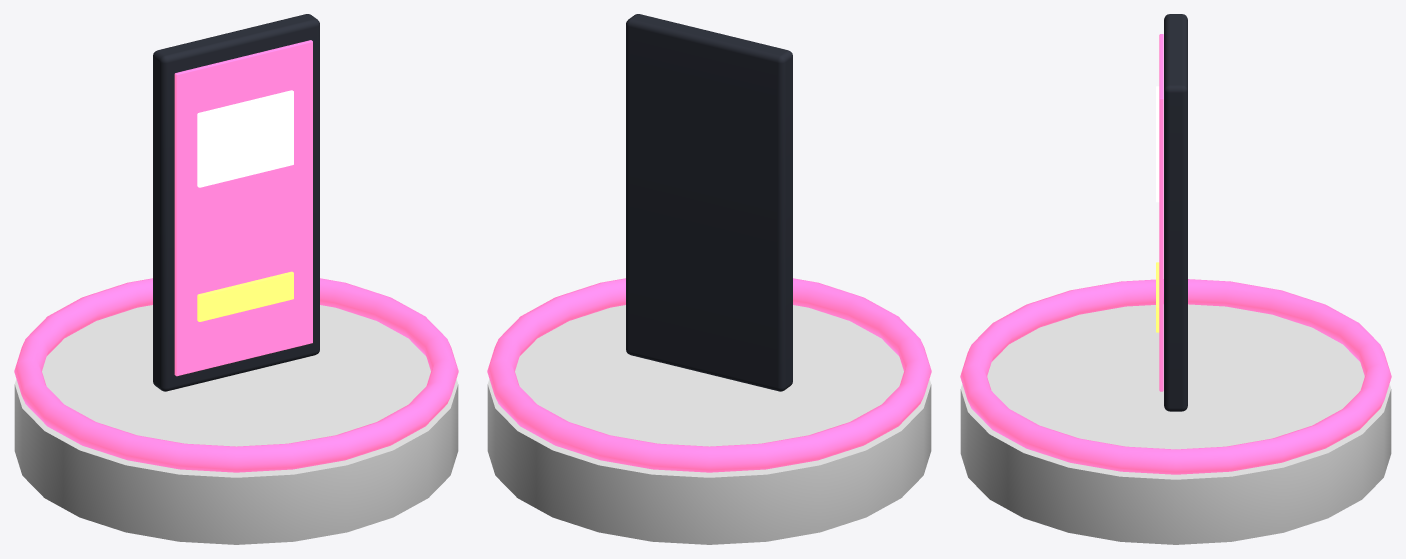
Rendered from phone-display.glb.
The picture shows the model from 3 angles, left to right: view 1: azimuth 30°, elevation 25°; view 2: azimuth 150°, elevation 25°; view 3: azimuth 270°, elevation 25°; orthographic projection. The views are drawn at different scales.
Visible parts, largest first — view 1: phone-display-solid, phone-1-rotor-glow (×3), phone-display-glow, phone-1-rotor-metal; view 2: phone-display-solid, phone-1-rotor-metal, phone-display-glow; view 3: phone-display-solid, phone-display-glow, phone-1-rotor-metal, phone-1-rotor-glow.
Part boxes in pixels (x1,y1,x2,y2): phone-display-solid: [14, 305, 458, 544]; phone-1-rotor-glow (×3): [174, 40, 312, 376]; phone-display-glow: [14, 278, 458, 472]; phone-1-rotor-metal: [153, 14, 319, 391]; phone-display-solid: [487, 305, 931, 544]; phone-1-rotor-metal: [626, 14, 792, 391]; phone-display-glow: [487, 278, 931, 472]; phone-display-solid: [960, 304, 1391, 544]; phone-display-glow: [960, 279, 1391, 474]; phone-1-rotor-metal: [1164, 14, 1187, 411]; phone-1-rotor-glow: [1159, 34, 1163, 391].
Size of the model in its own units: 0.192 by 0.1984 by 0.192.
